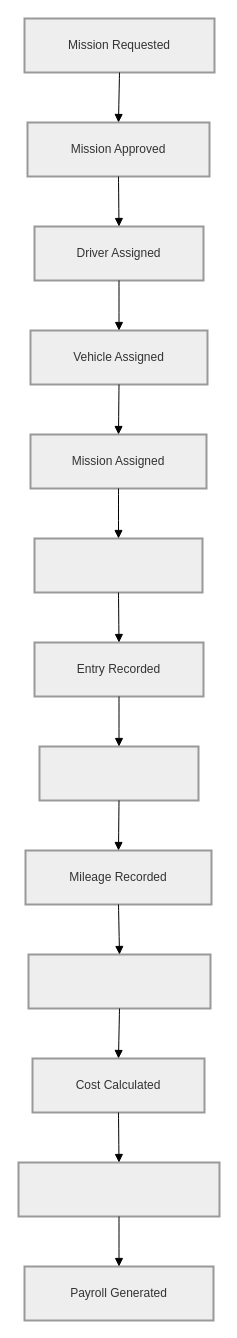
This 237x1338 diagram has some shape labels left out. Here are the shapes that lost their labels. From the top down, the box of each, then its label:
(33, 537, 203, 593): Mission Started
(38, 745, 199, 801): Exit Recorded
(27, 953, 211, 1009): Mission Executed
(17, 1161, 220, 1217): Monthly Settlement
